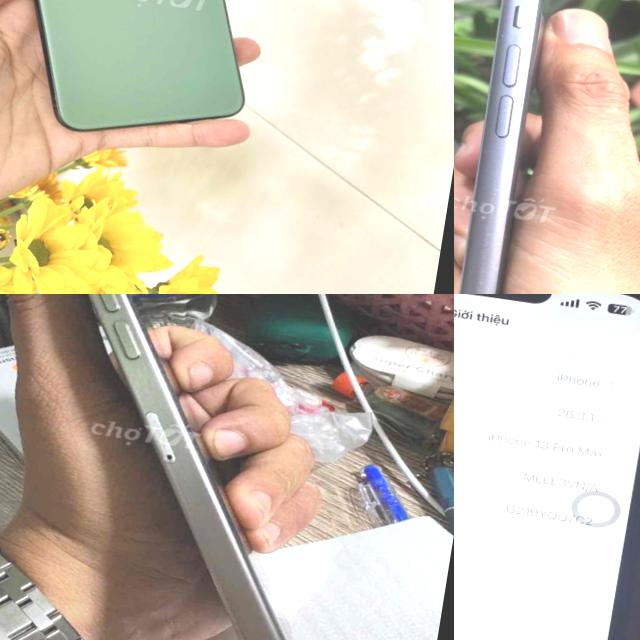gen_11: (0, 0, 290, 160), (454, 0, 586, 294)
gen_12_13: (454, 294, 640, 640)
gen_15: (0, 294, 407, 640)
